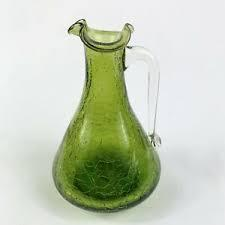glass: (49, 1, 187, 221)
